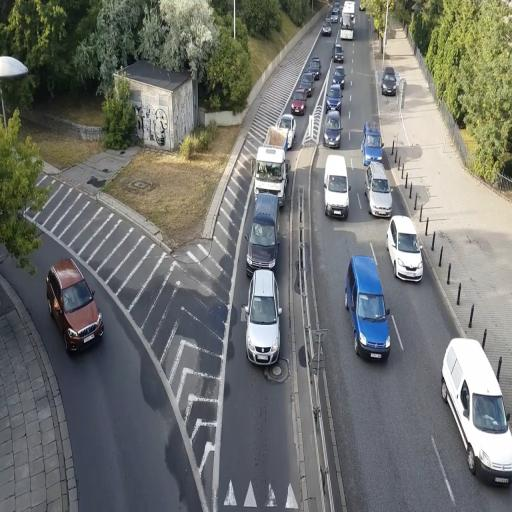vehicle: (440, 335, 512, 488), (440, 334, 512, 486), (46, 259, 104, 355), (344, 252, 392, 362), (246, 144, 286, 274), (244, 269, 282, 367), (246, 190, 280, 274), (386, 215, 424, 282), (254, 145, 287, 203), (324, 152, 350, 221), (367, 161, 393, 219), (362, 120, 383, 165), (322, 107, 342, 148), (277, 112, 296, 150), (381, 66, 398, 96), (290, 89, 306, 115)
